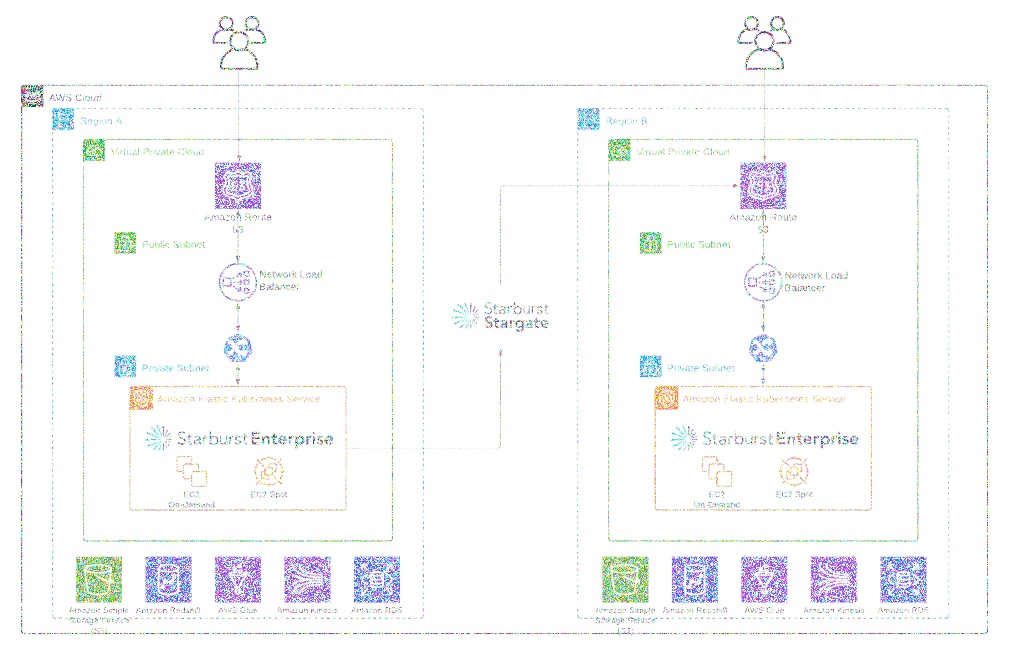EC2: (171, 451, 214, 489), (698, 451, 738, 489), (773, 453, 815, 487), (253, 452, 288, 491)
EKS: (653, 386, 680, 413), (127, 385, 155, 410)
ELB: (219, 261, 259, 302), (743, 261, 783, 301)
Glue: (212, 552, 267, 607), (740, 553, 790, 605)
Kinesis Data Streams: (810, 553, 859, 605), (282, 555, 333, 603)
Private Subnet: (110, 352, 138, 380), (638, 352, 665, 378)
Public Subnet: (638, 229, 663, 257), (112, 229, 138, 253)
RDS: (352, 552, 404, 605), (878, 553, 929, 604)
Redshift: (669, 552, 721, 605), (144, 552, 192, 604)
Region: (49, 107, 78, 133), (577, 106, 601, 133)
Route53: (210, 161, 265, 211), (738, 161, 790, 211)
S3: (599, 553, 651, 605), (72, 555, 122, 603)
Users: (210, 9, 273, 73), (732, 10, 795, 73)
aws: (18, 81, 46, 108)
